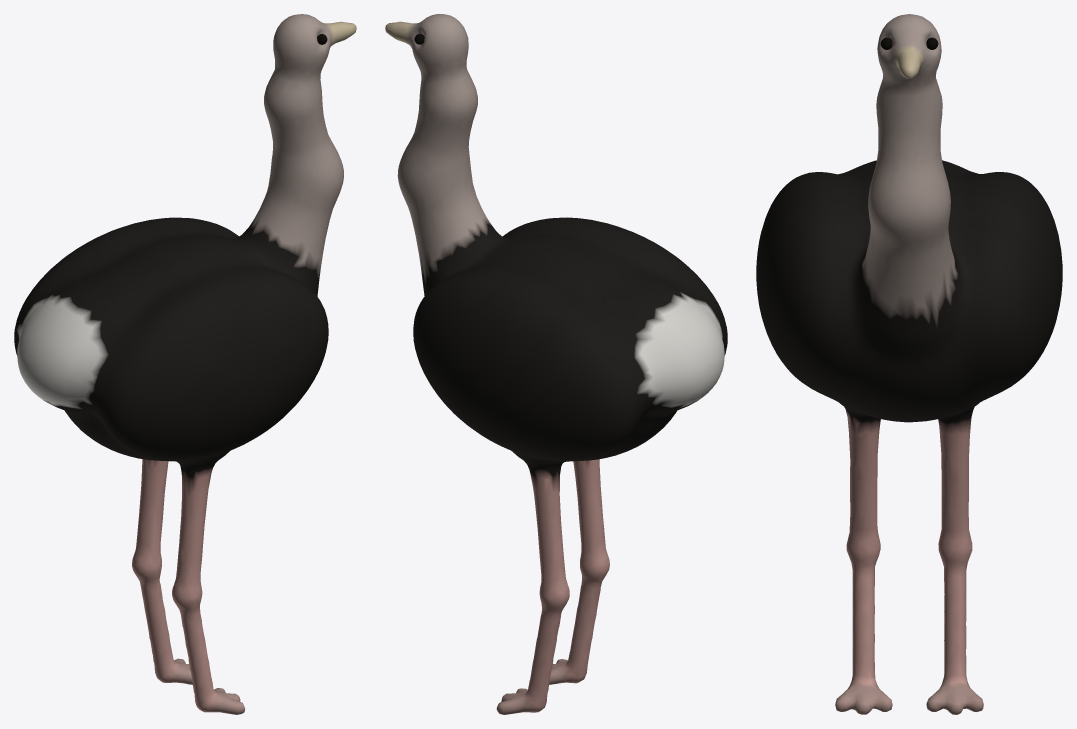
File: ostrich.glb
3 renders of one model, left to right at view 1: azimuth 30°, elevation 25°; view 2: azimuth 150°, elevation 25°; view 3: azimuth 270°, elevation 25°, orthographic. The views are drawn at different scales.
Parts seen in each view (by area): view 1: ostrich; view 2: ostrich; view 3: ostrich.
Part boxes in pixels (left/top/right/bottom): ostrich: left=14, top=14, right=356, bottom=714; ostrich: left=385, top=14, right=727, bottom=714; ostrich: left=756, top=14, right=1062, bottom=714.
Bounding box in the file's own units: 1.46 × 2.77 × 1.03.
